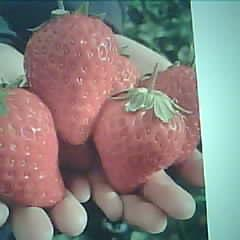straw-ripe: (25, 13, 117, 144), (95, 89, 184, 188), (0, 86, 64, 205)
